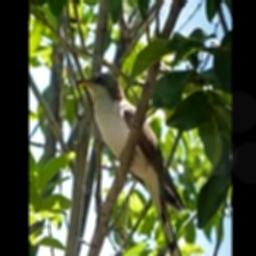Cuckoo: (75, 72, 192, 256)
